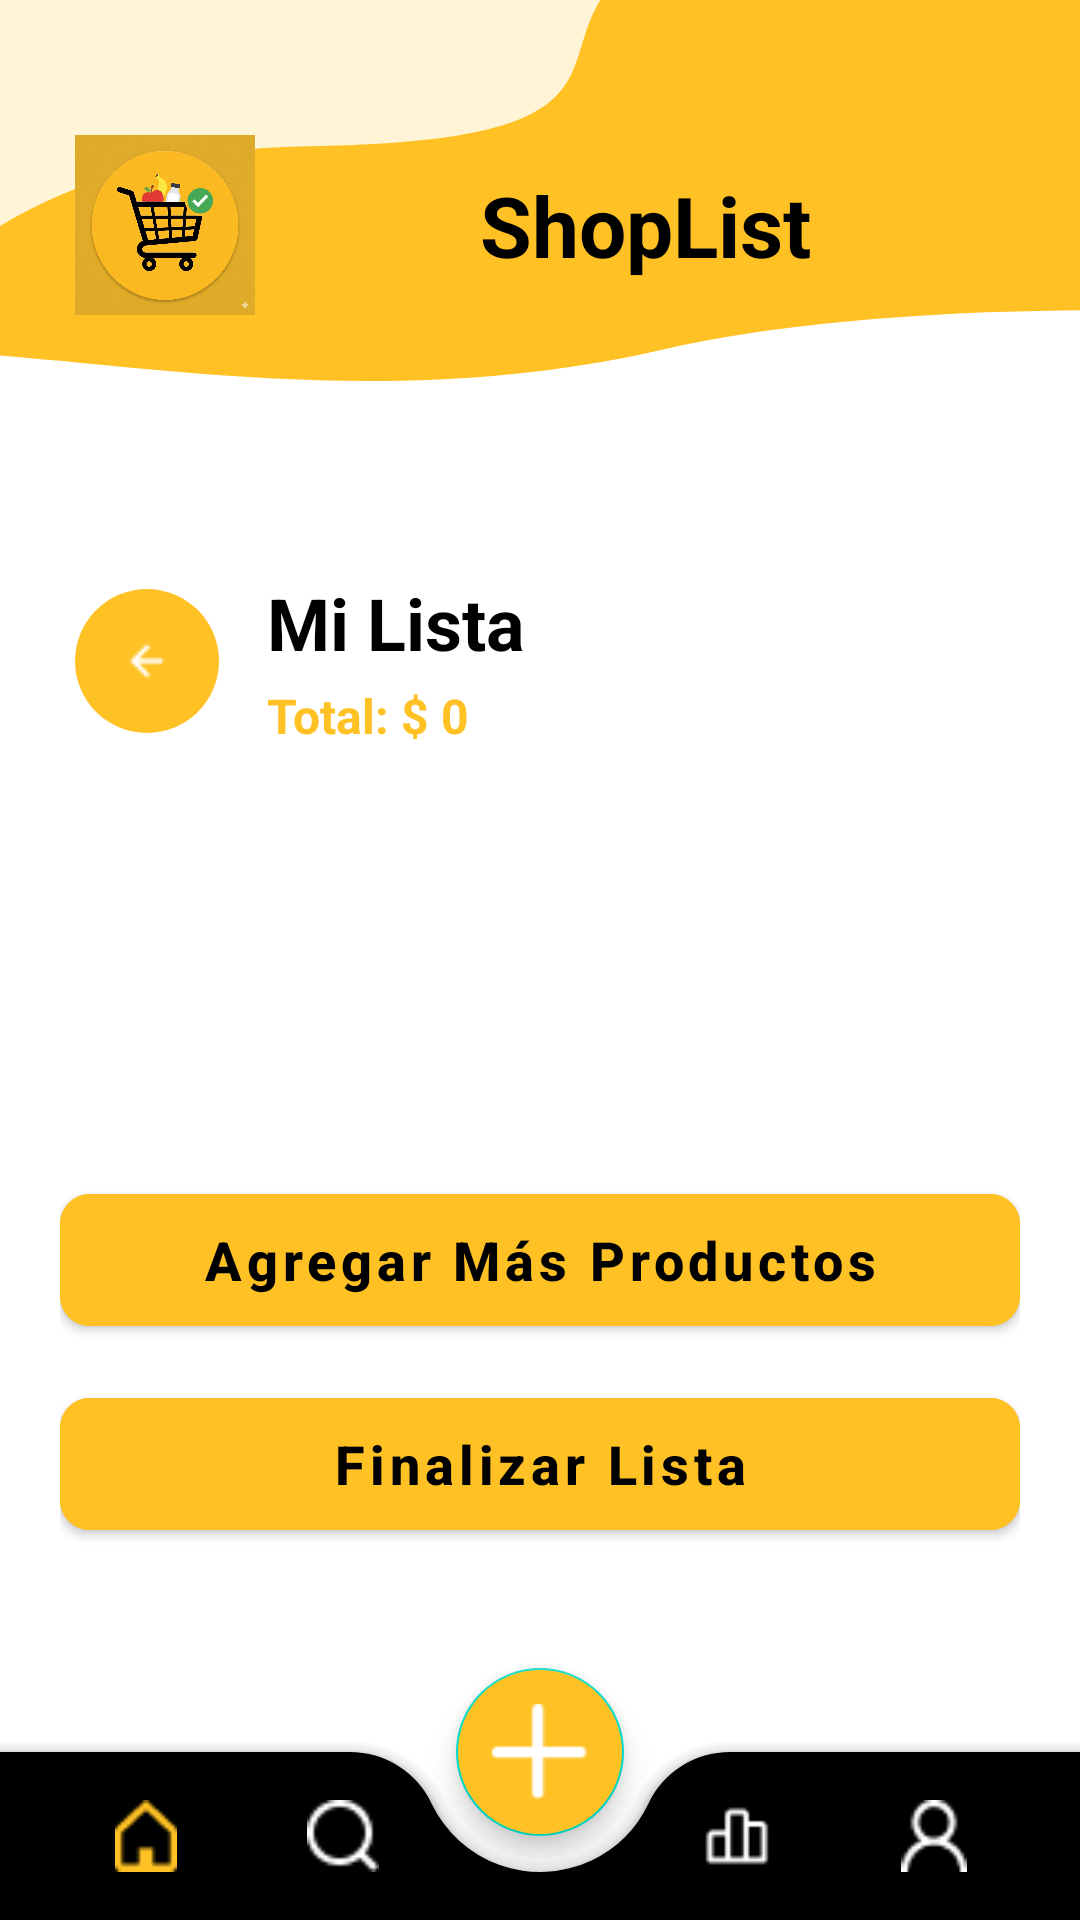

Named icons in this screenshot (1080px×1920px) and their bounding boxes, {"left": x1, "top": y1, "right": x2, "bottom": y2}:
create list: {"left": 456, "top": 1668, "right": 624, "bottom": 1836}
Volver: {"left": 75, "top": 589, "right": 219, "bottom": 733}
